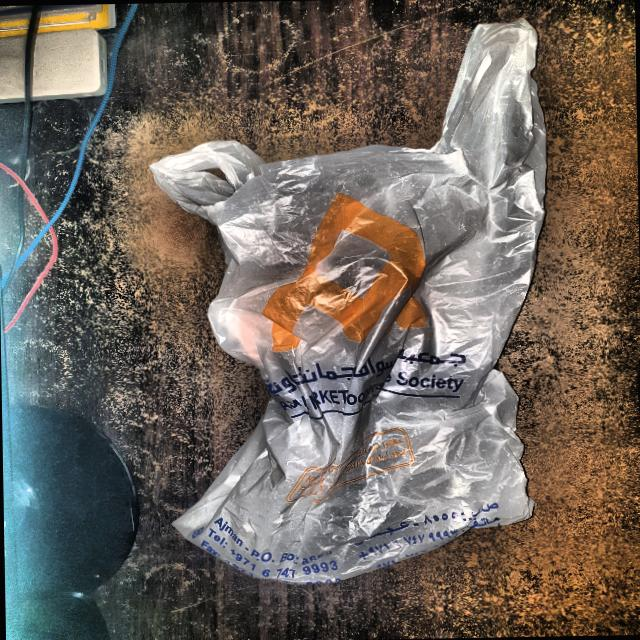plastic bag: (120, 0, 591, 602)
